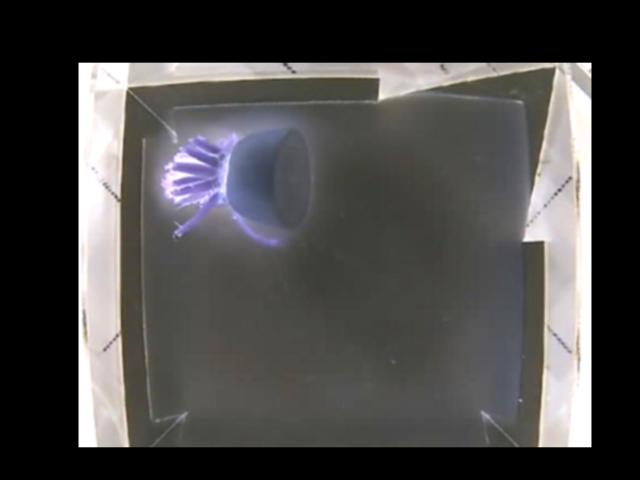Mooli: (164, 125, 310, 246)
